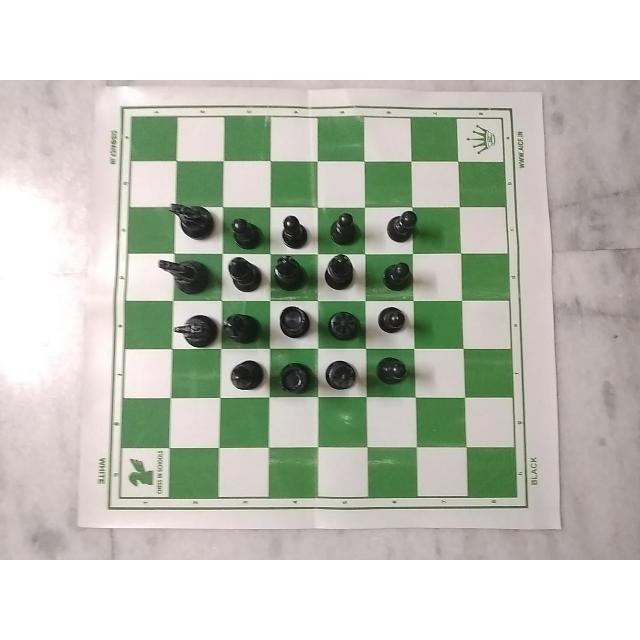black-bishop: (325, 304, 369, 350), (224, 351, 265, 397), (319, 251, 361, 295), (221, 301, 261, 345), (272, 255, 313, 296), (224, 252, 264, 293), (328, 362, 360, 393)
black-knight: (155, 253, 212, 293), (166, 200, 217, 240), (172, 310, 216, 348)
black-pawn: (230, 213, 269, 251), (275, 209, 311, 249), (377, 354, 411, 394), (383, 205, 417, 244), (377, 304, 413, 340), (384, 257, 414, 296), (327, 210, 359, 244)
black-rook: (269, 300, 312, 346), (275, 362, 317, 398)
